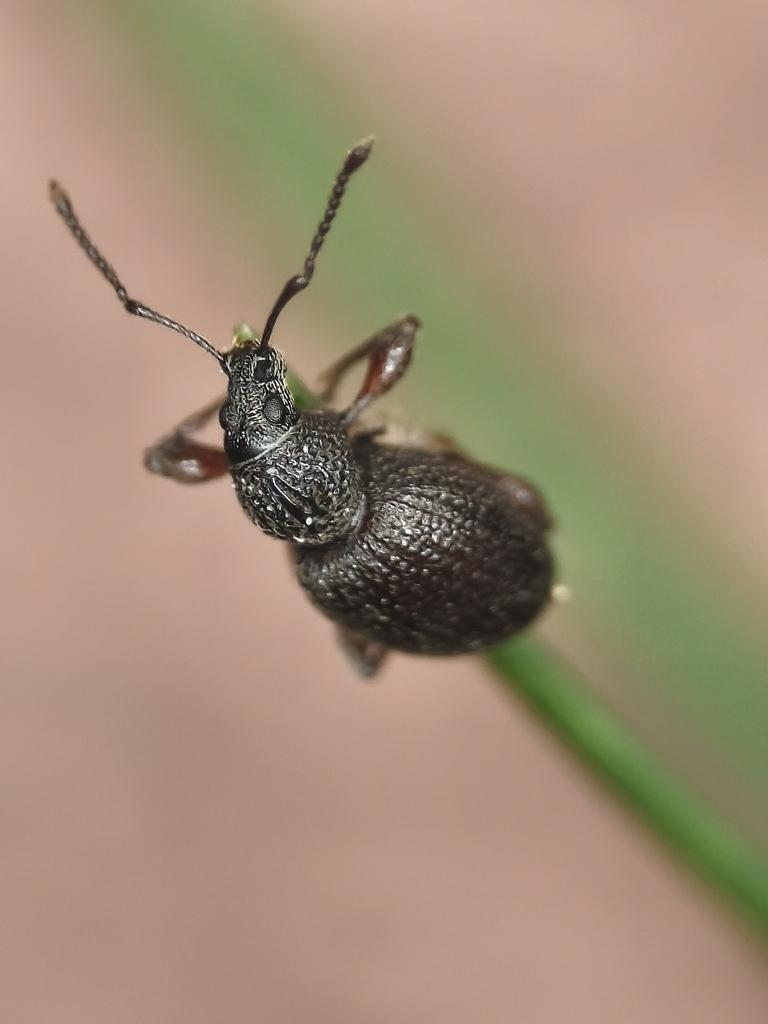weevils: (0, 36, 709, 799)
